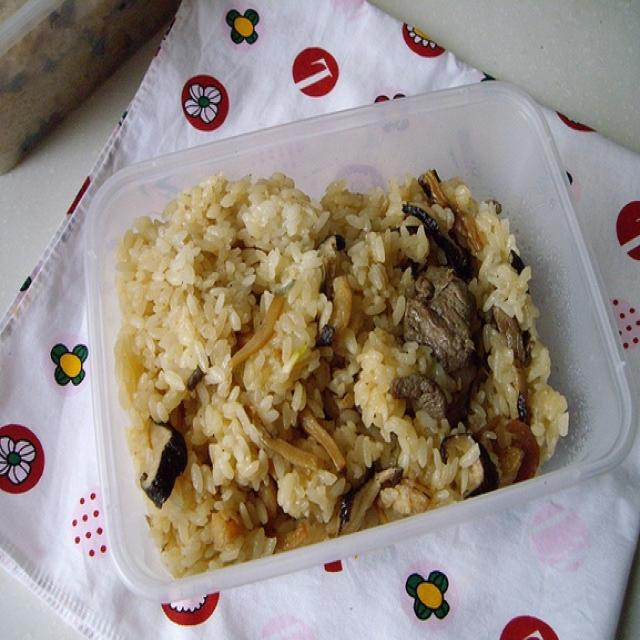米饭主食: (45, 74, 618, 585)
